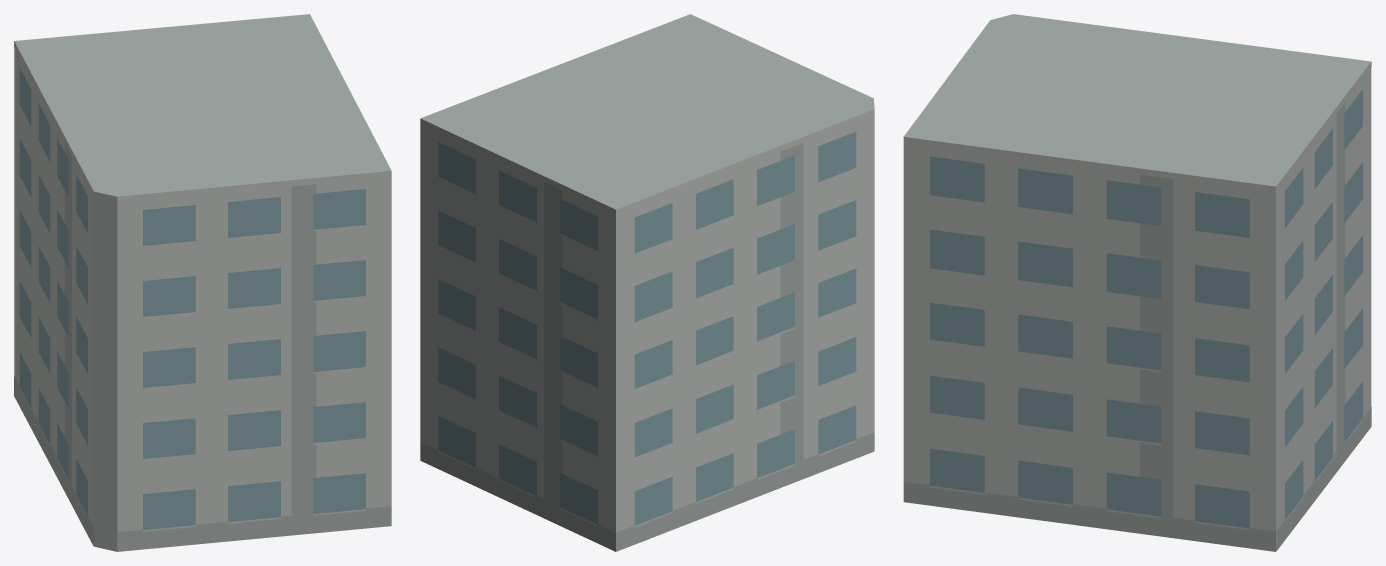
File: survey-upis-32949726.glb
The picture shows the model from 3 angles, left to right: view 1: azimuth 30°, elevation 25°; view 2: azimuth 150°, elevation 25°; view 3: azimuth 270°, elevation 25°; orthographic projection. The views are drawn at different scales.
Visible parts, largest first — view 1: survey-upis-32949726.tmp; view 2: survey-upis-32949726.tmp; view 3: survey-upis-32949726.tmp.
Boxes of the visible parts, x1,y1,x2,y2 form: survey-upis-32949726.tmp: (14, 14, 391, 551); survey-upis-32949726.tmp: (420, 14, 874, 551); survey-upis-32949726.tmp: (903, 14, 1371, 551).
Size of the model in its own units: 14.19 by 14 by 16.26.
